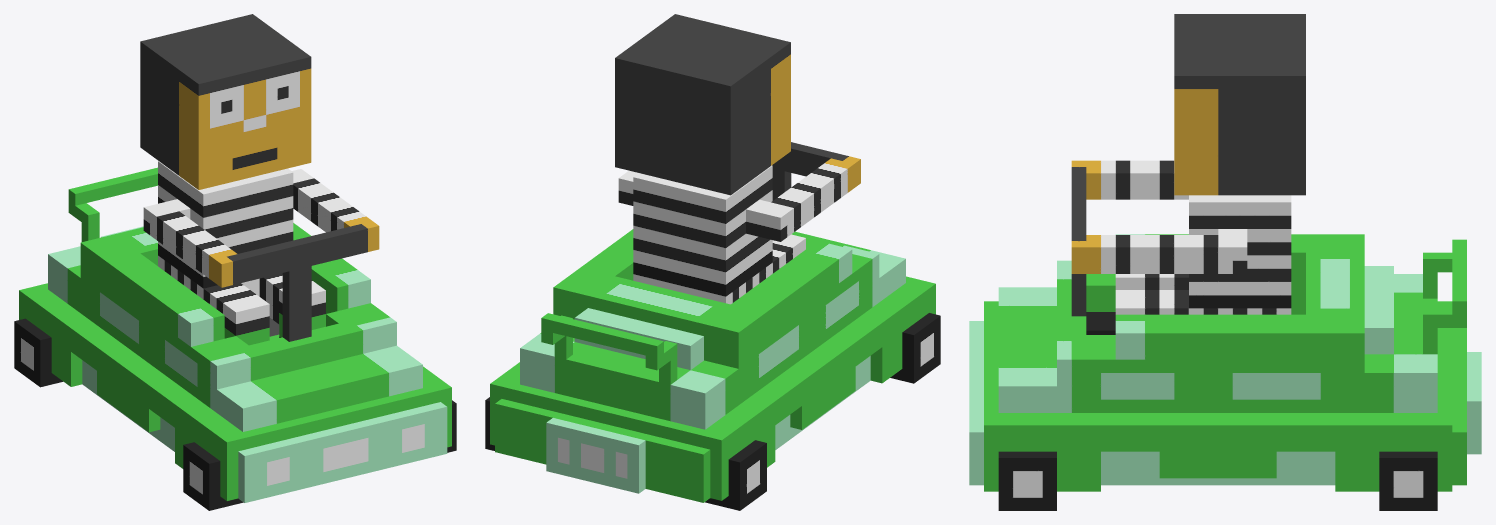
File: Character_11.fbx
The picture shows the model from 3 angles, left to right: view 1: azimuth 30°, elevation 25°; view 2: azimuth 150°, elevation 25°; view 3: azimuth 270°, elevation 25°; orthographic projection. The views are drawn at different scales.
Visible parts, largest first — view 1: Character_11; view 2: Character_11; view 3: Character_11.
Boxes of the visible parts, x1,y1,x2,y2 form: Character_11: (14, 14, 456, 510); Character_11: (485, 14, 940, 510); Character_11: (969, 14, 1481, 510).
Size of the model in its own units: 22 by 30 by 35.
Materials: 1 (1 with a texture image).
